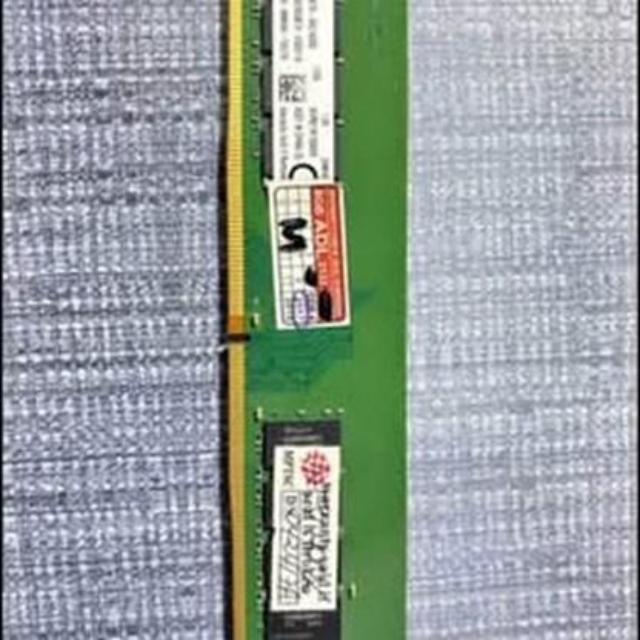RAM: (220, 0, 412, 640)
